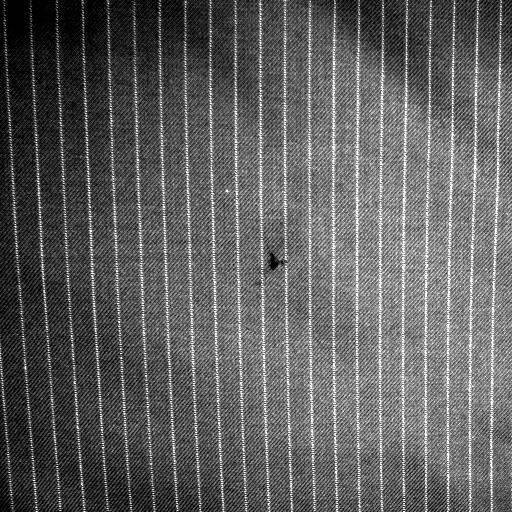fabric_hole: (264, 245, 290, 275)
